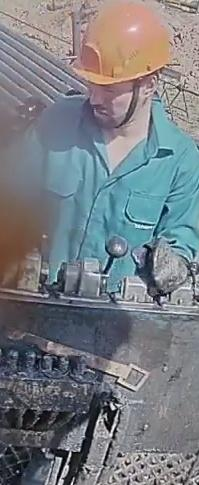gloves: (130, 234, 193, 297)
helmet: (69, 0, 171, 96)
vest: (20, 93, 198, 294)
